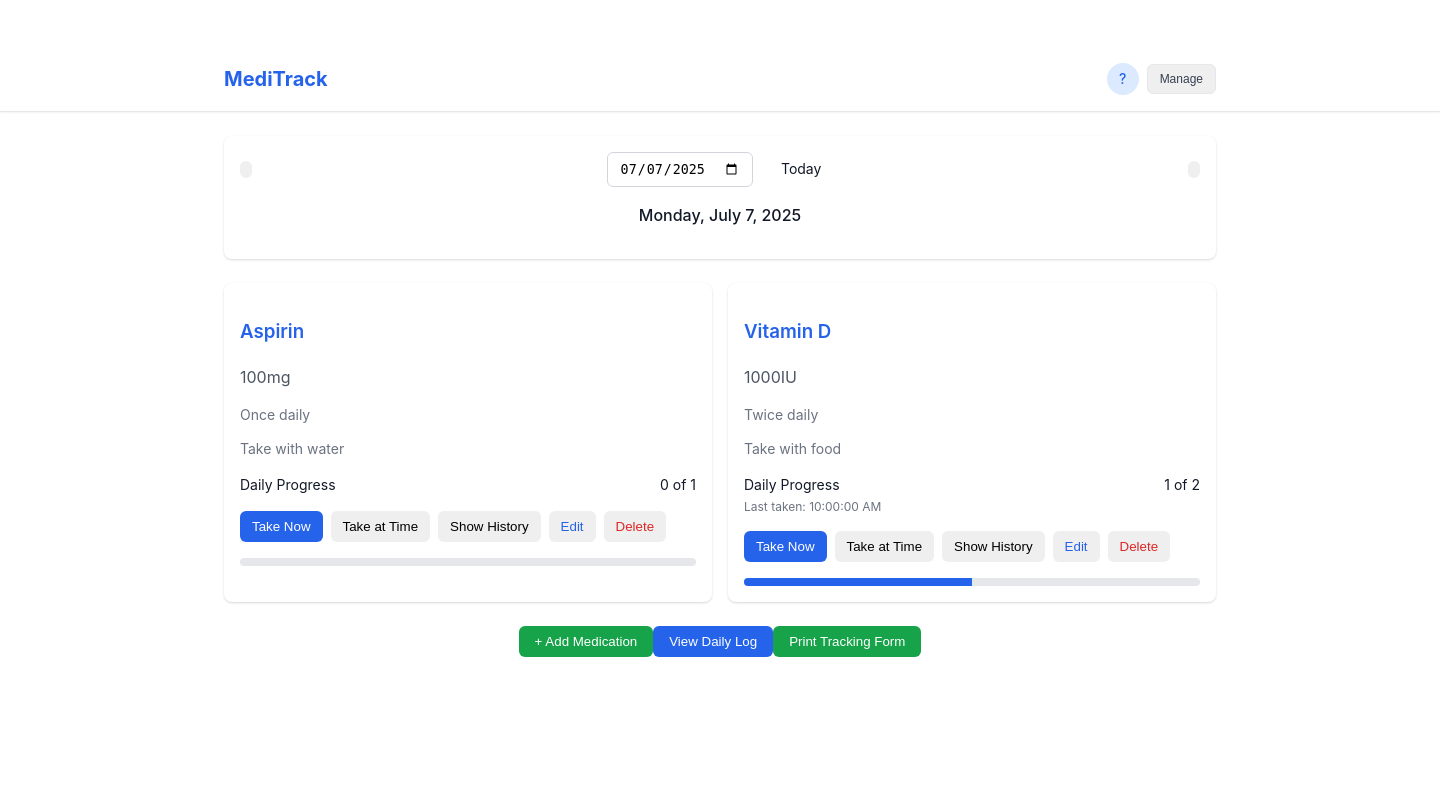
Test: MedicationTracker › Dose History › shows dose history when Show History is clicked
What coordinates should you click on to do the following:
click the button "Show History" below "Take with water"
I would click on:
 (489, 526)
Its box is [438, 511, 541, 542].
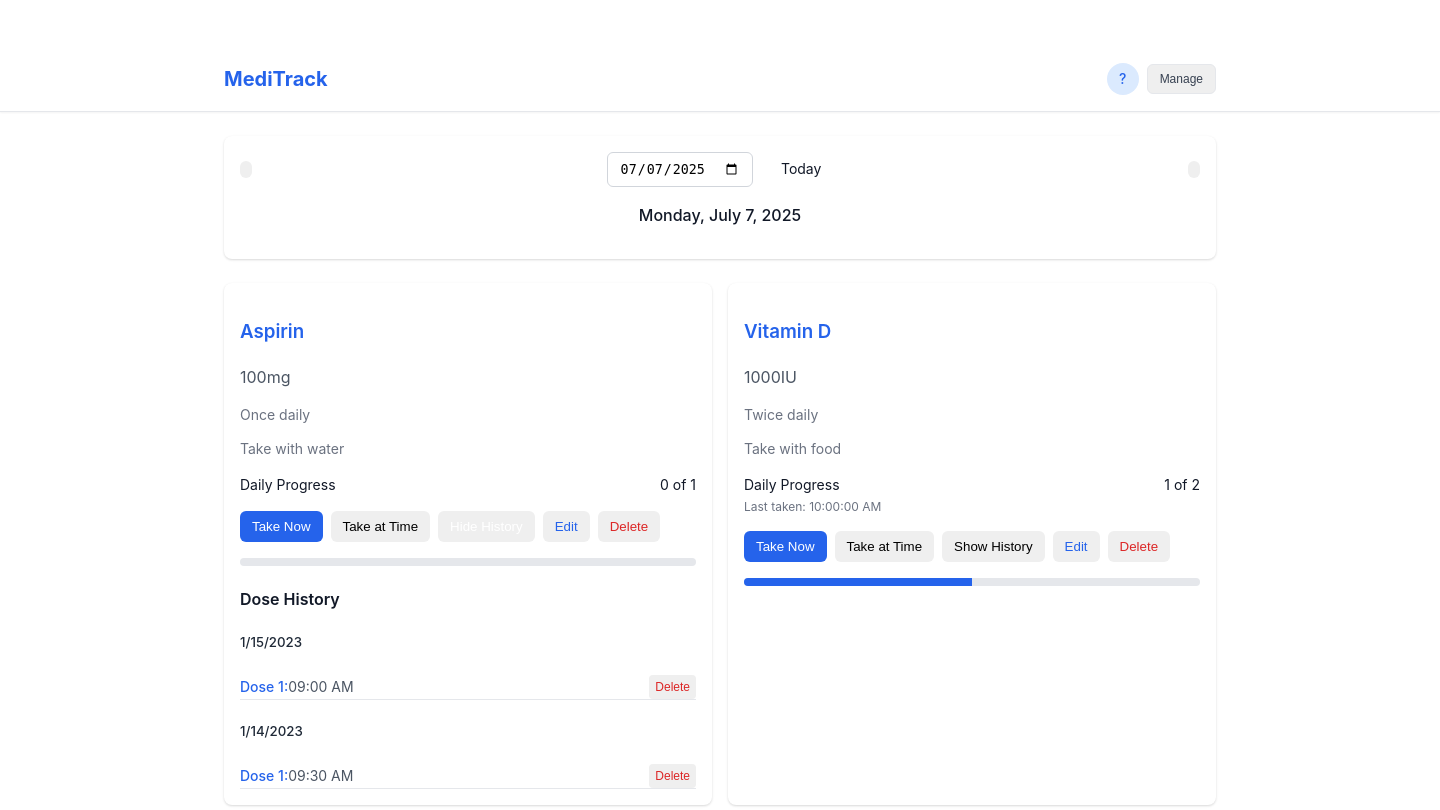
Result: the heading "Dose History" is shown at [240, 589, 340, 609]
